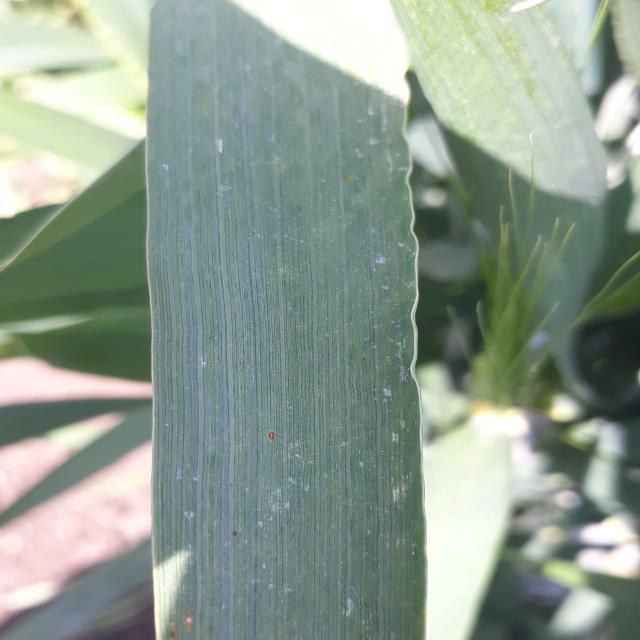orang_rust: (147, 581, 414, 640), (216, 385, 312, 469)
